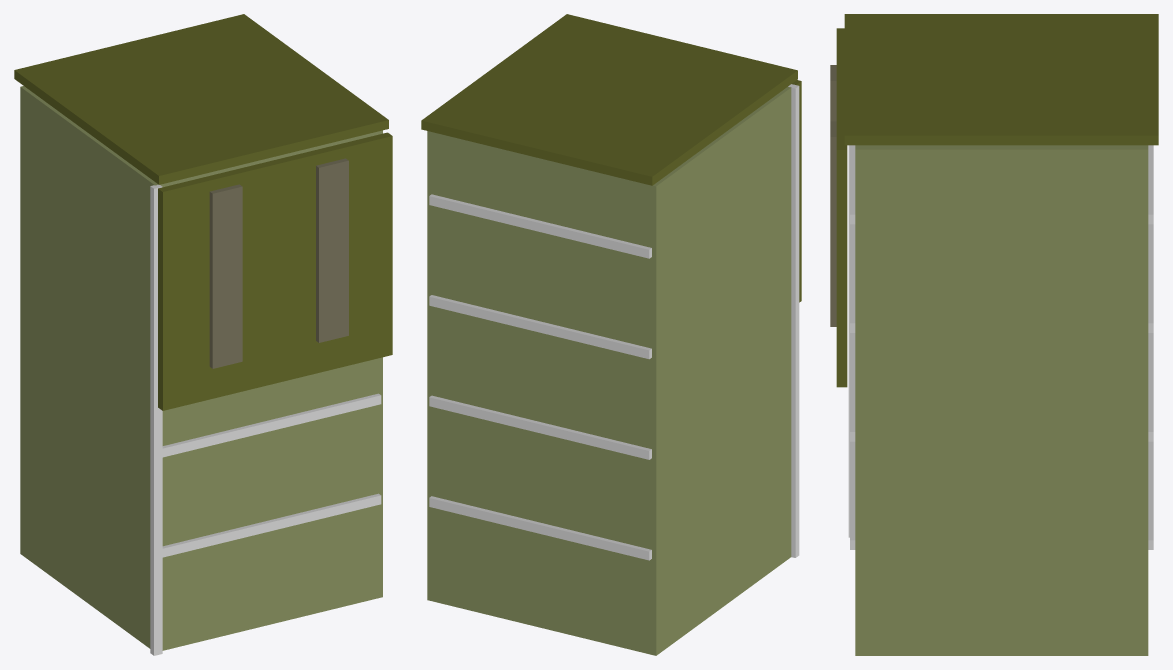
The model's file is SM_HescoCorto1_v4_Red_e0_Sano_LOD0.fbx.
3 views of the same model, side by side, from view 1: azimuth 30°, elevation 25°; view 2: azimuth 150°, elevation 25°; view 3: azimuth 270°, elevation 25° (orthographic). The views are drawn at different scales.
Visible parts, largest first — view 1: SM_hesco_piezas_v56_LOD0; view 2: SM_hesco_piezas_v56_LOD0; view 3: SM_hesco_piezas_v56_LOD0.
Part boxes in pixels (x1,y1,x2,y2): SM_hesco_piezas_v56_LOD0: [14, 14, 392, 655]; SM_hesco_piezas_v56_LOD0: [421, 14, 801, 655]; SM_hesco_piezas_v56_LOD0: [830, 14, 1158, 655].
Bounding box in the file's own units: 1.1 × 2.16 × 1.23.
